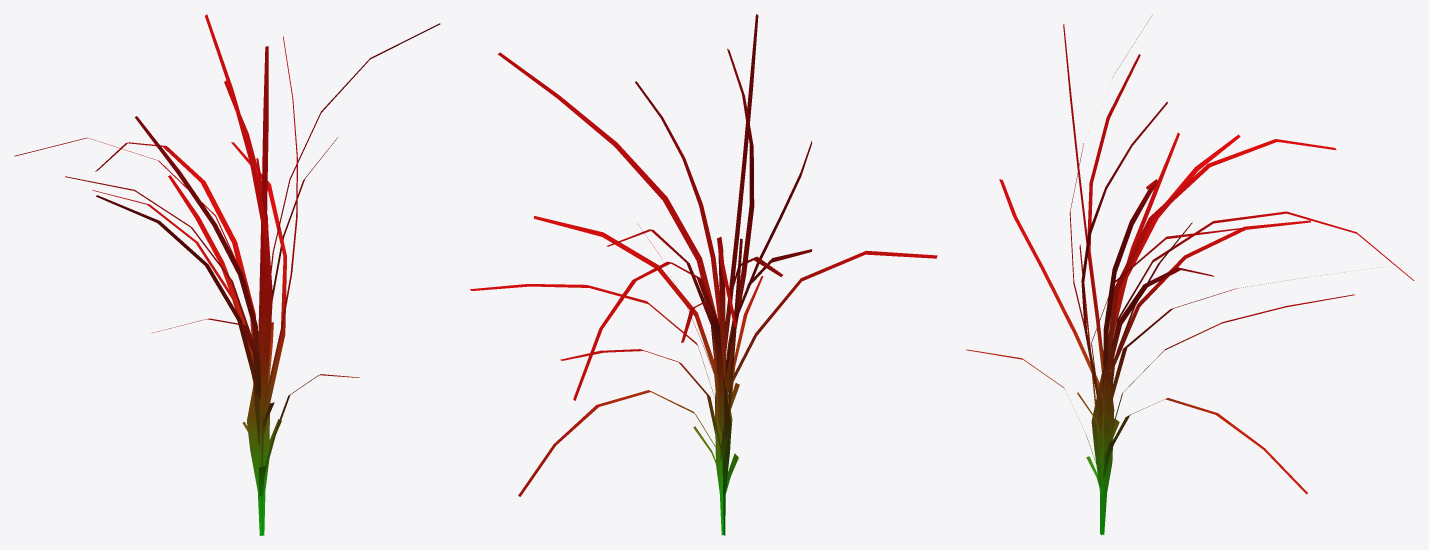
File: Sea Wheatgrass_LOD2_Var3_ui2oagjia.fbx
The picture shows the model from 3 angles, left to right: view 1: azimuth 30°, elevation 25°; view 2: azimuth 150°, elevation 25°; view 3: azimuth 270°, elevation 25°; orthographic projection.
Parts seen in each view (by area): view 1: _dueu_Var3_LOD2; view 2: _dueu_Var3_LOD2; view 3: _dueu_Var3_LOD2.
Part boxes in pixels (<box>): _dueu_Var3_LOD2: <box>14,14,440,535</box>; _dueu_Var3_LOD2: <box>470,14,937,535</box>; _dueu_Var3_LOD2: <box>966,14,1414,535</box>.
Bounding box in the file's own units: 50.91 × 68.19 × 54.64.
